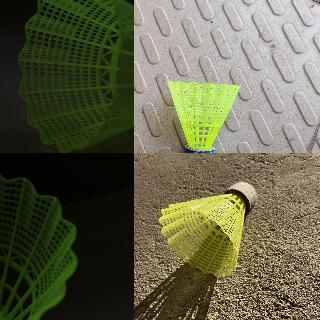shuttlecock: (18, 0, 133, 153), (0, 172, 77, 319), (158, 182, 255, 276), (168, 81, 241, 152)
